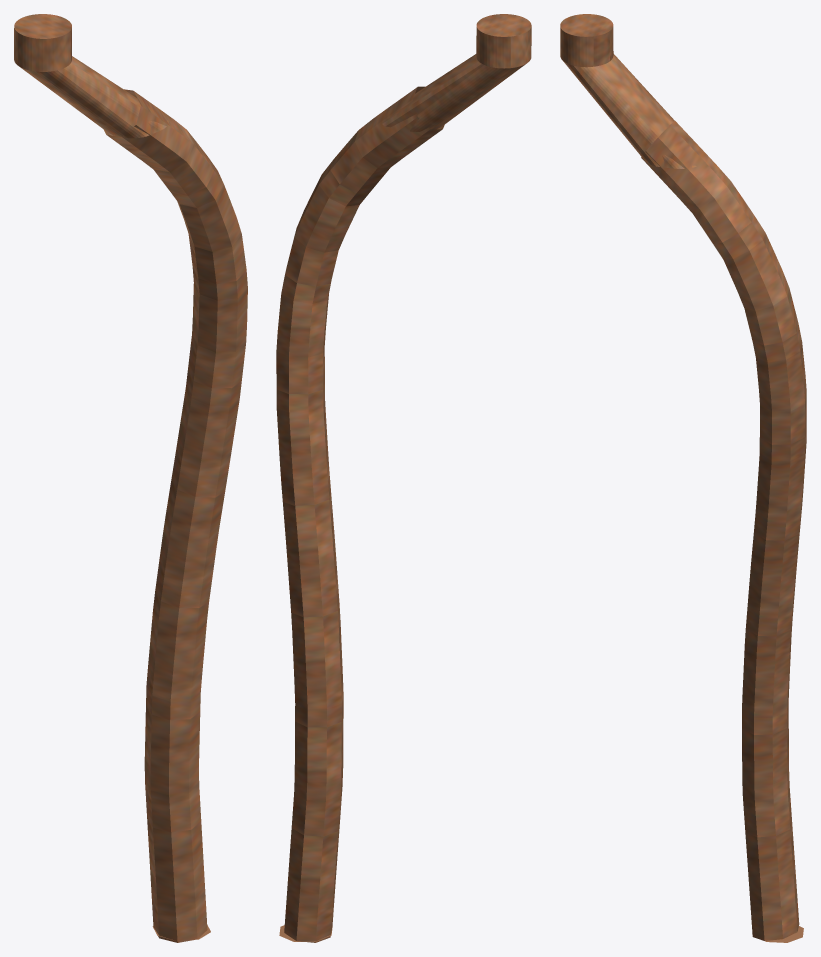
The model's file is coverrope.glb.
The picture shows the model from 3 angles, left to right: view 1: azimuth 30°, elevation 25°; view 2: azimuth 150°, elevation 25°; view 3: azimuth 330°, elevation 25°; orthographic projection. The views are drawn at different scales.
Visible parts, largest first — view 1: Circle, BézierCircle; view 2: Circle, BézierCircle; view 3: Circle, BézierCircle.
Boxes of the visible parts, bbox=[...] form: Circle: bbox=[104, 89, 247, 942]; BézierCircle: bbox=[14, 14, 168, 138]; Circle: bbox=[276, 86, 444, 942]; BézierCircle: bbox=[382, 14, 531, 131]; Circle: bbox=[641, 121, 806, 940]; BézierCircle: bbox=[560, 14, 696, 168].
Bounding box in the file's own units: 0.8383 × 3.21 × 0.3848.
Materials: 1 (1 with a texture image).
